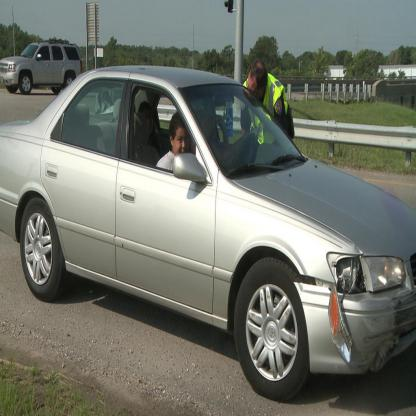door: (40, 138, 216, 315)
front_bumper: (294, 282, 414, 373)
headlamp: (360, 256, 401, 292)
hood: (235, 158, 416, 260)
